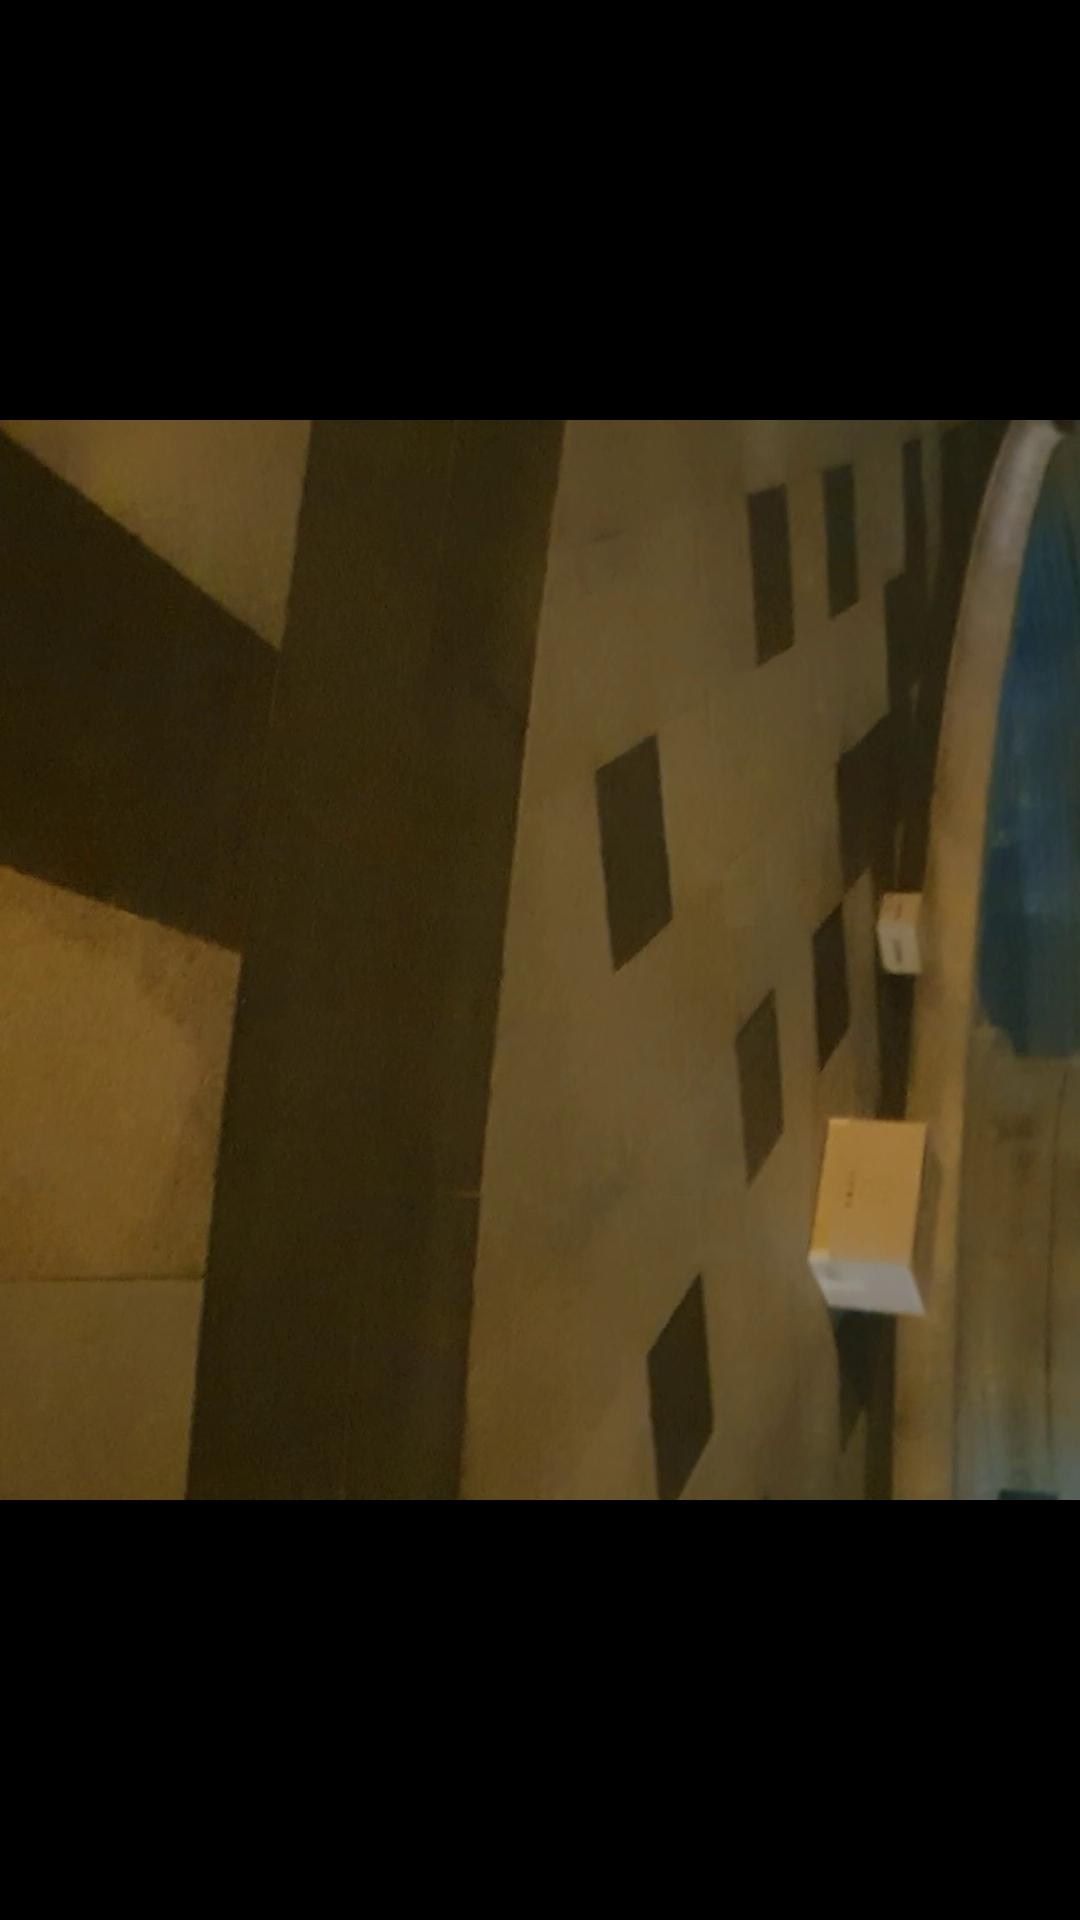Box: (807, 1118, 952, 1309), (866, 872, 942, 973)
